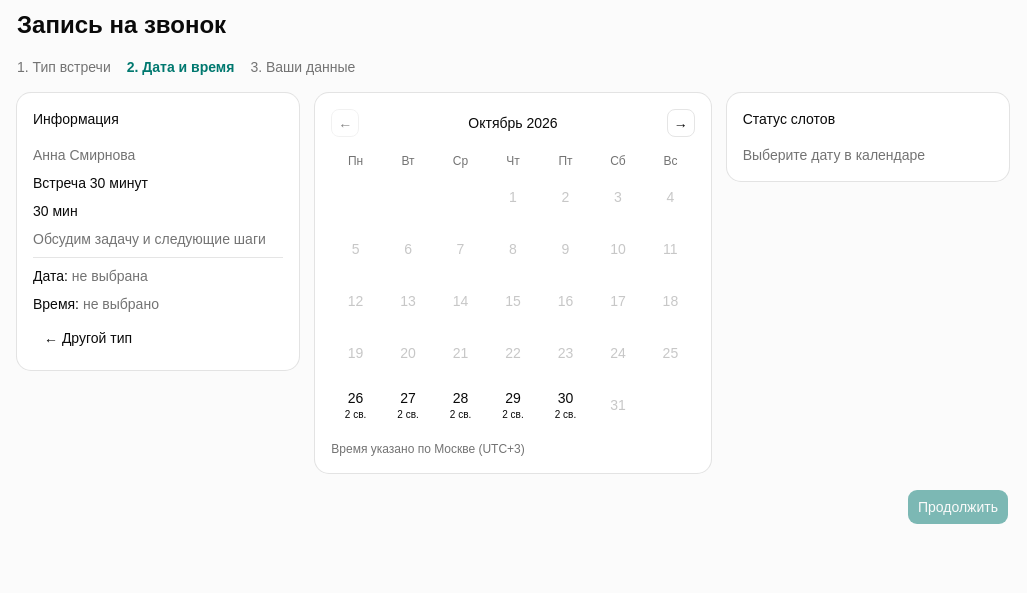
календарь BookingWindow › окно на стыке месяцев листается стрелками
The width and height of the screenshot is (1027, 593).
Check: the heading "Октябрь 2026" is shown, box left=468, top=115, right=558, bottom=131
Check: the button named "Предыдущий месяц" is disabled, box left=331, top=109, right=359, bottom=137
What coordinates should you click on to do the following:
click the button named "Следующий месяц"
I would click on:
 (681, 123)
Its box is left=667, top=109, right=695, bottom=137.
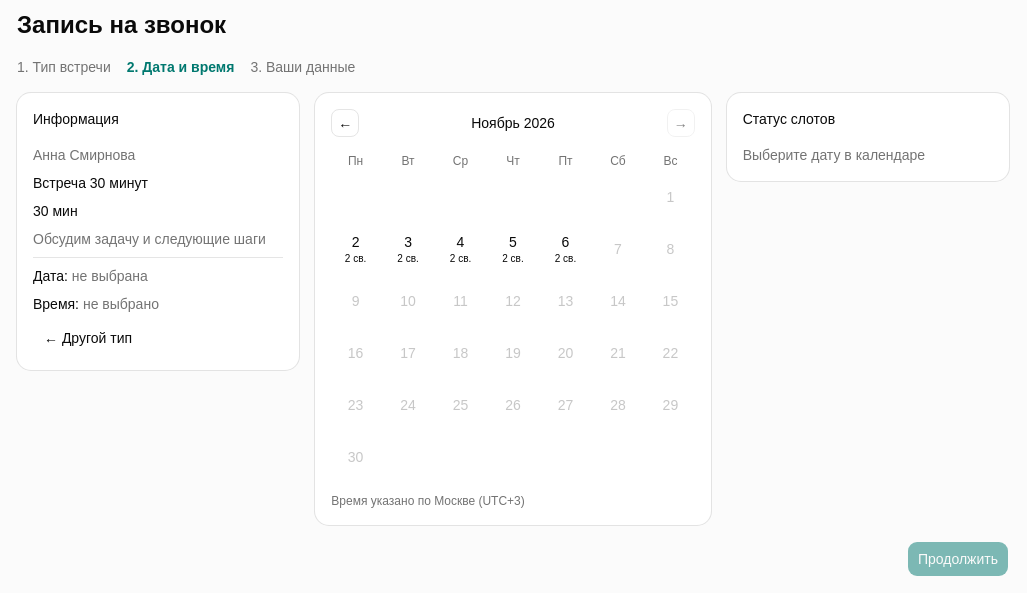
Check: the heading "Ноябрь 2026" is shown, box left=471, top=115, right=555, bottom=131
What coordinates should you click on to do the following:
click the button named "Предыдущий месяц"
I would click on:
 (345, 123)
Its box is left=331, top=109, right=359, bottom=137.
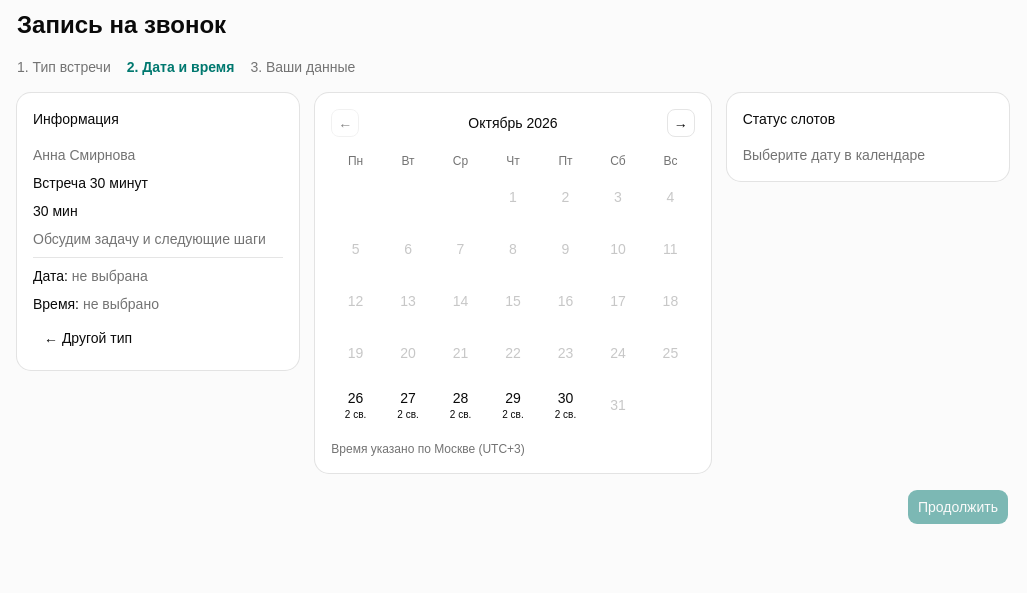
Check: the heading "Октябрь 2026" is shown, box left=468, top=115, right=558, bottom=131
